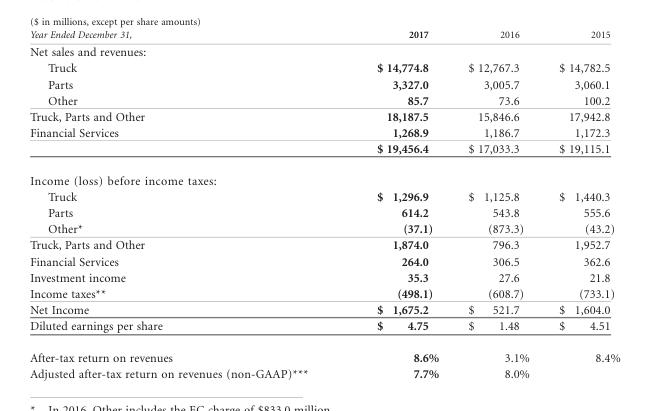table: (29, 28, 619, 380)
table column: (29, 28, 342, 380), (342, 28, 452, 380), (452, 28, 543, 380), (543, 28, 619, 380)
table column header: (29, 28, 619, 42)
table projected row header: (29, 164, 619, 188), (29, 42, 619, 59)
table row: (29, 140, 619, 164), (29, 164, 619, 188), (29, 317, 619, 341), (29, 341, 619, 365), (29, 42, 619, 59), (29, 75, 619, 92), (29, 252, 619, 269), (29, 59, 619, 75), (29, 92, 619, 108), (29, 108, 619, 124), (29, 124, 619, 140), (29, 188, 619, 204), (29, 204, 619, 220), (29, 220, 619, 236), (29, 236, 619, 252), (29, 269, 619, 285), (29, 285, 619, 301), (29, 301, 619, 317), (29, 365, 619, 380), (29, 28, 619, 42)
